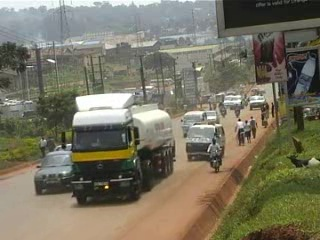Car: (32, 148, 78, 196), (201, 108, 221, 128), (53, 141, 75, 155), (222, 92, 234, 109), (232, 94, 244, 108)
Motorcycle: (206, 138, 225, 173), (233, 103, 242, 118), (242, 92, 250, 108), (220, 104, 228, 118), (217, 99, 223, 111)
